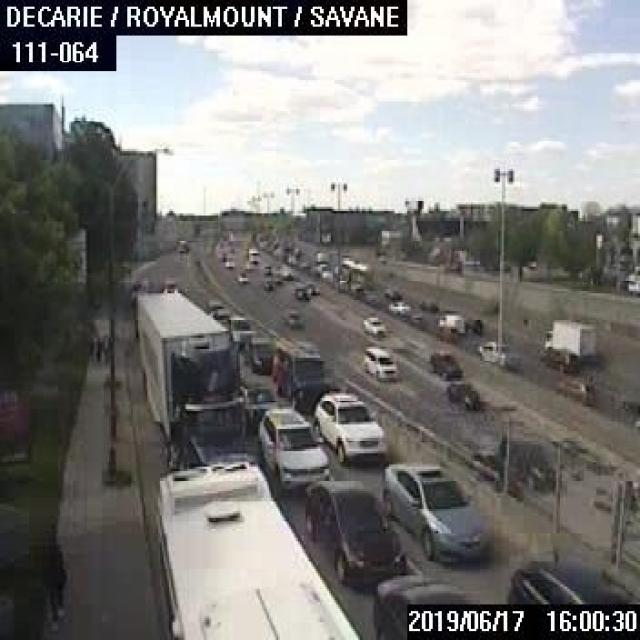bus: (150, 459, 366, 637)
pedestrian: (86, 332, 98, 362), (100, 332, 108, 362)
vehicle: (136, 288, 255, 474), (302, 474, 406, 585), (382, 460, 494, 562), (373, 570, 489, 638), (258, 406, 328, 491), (312, 390, 388, 463), (504, 558, 629, 602), (270, 336, 332, 407), (492, 429, 554, 489), (544, 315, 594, 362), (242, 333, 276, 372), (362, 345, 398, 380), (553, 374, 596, 402), (537, 346, 579, 374), (443, 379, 480, 409), (476, 338, 509, 367), (428, 347, 461, 376), (224, 315, 252, 343), (435, 313, 467, 334), (615, 398, 638, 424), (128, 276, 151, 302), (208, 297, 230, 322), (282, 306, 306, 328), (362, 314, 386, 336), (386, 299, 409, 314), (160, 277, 178, 293), (302, 282, 319, 294), (233, 271, 247, 284), (294, 286, 310, 297)
